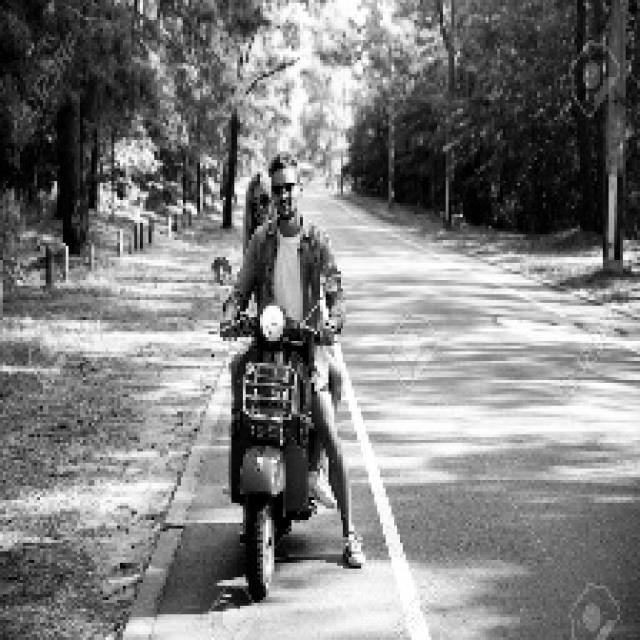Bike: (214, 300, 327, 566)
